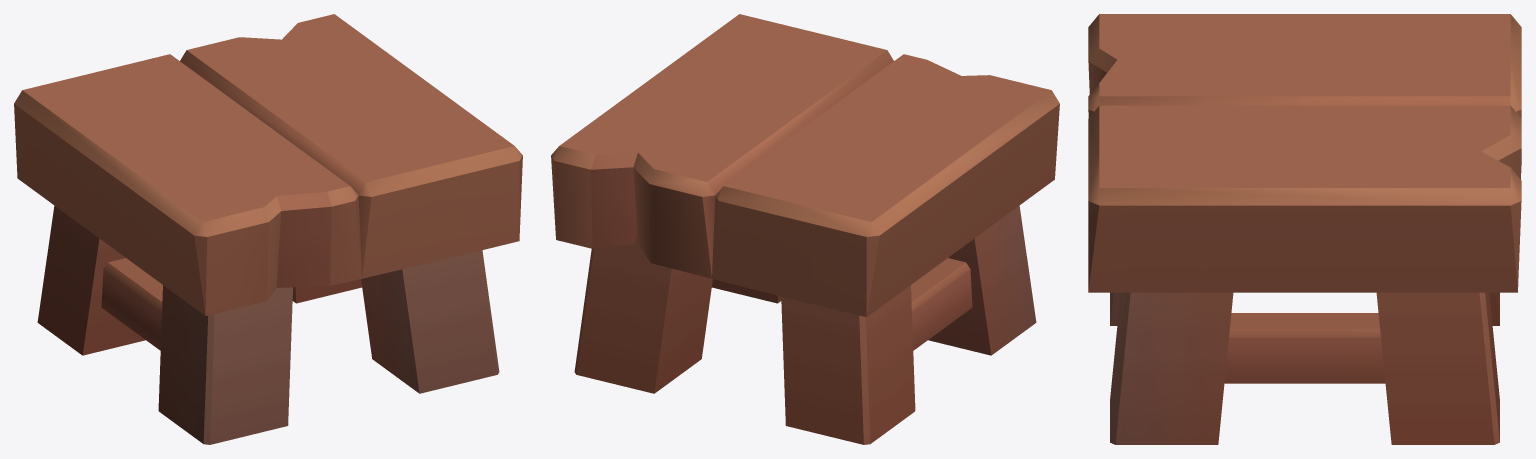
Rendered from stool.glb.
The picture shows the model from 3 angles, left to right: view 1: azimuth 30°, elevation 25°; view 2: azimuth 150°, elevation 25°; view 3: azimuth 270°, elevation 25°; orthographic projection. The views are drawn at different scales.
Parts seen in each view (by area): view 1: stool; view 2: stool; view 3: stool.
Part boxes in pixels (x1,y1,x2,y2): stool: (14, 14, 522, 444); stool: (551, 14, 1059, 444); stool: (1088, 14, 1521, 444).
Size of the model in its own units: 0.75 by 0.5 by 0.75.
Materials: 1 (1 with a texture image).
